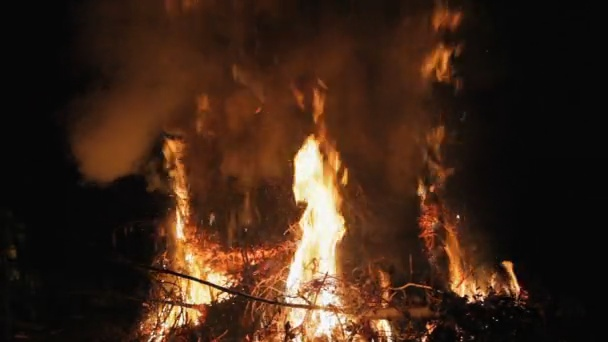fire: (140, 140, 233, 342), (287, 136, 346, 342), (419, 42, 460, 249), (446, 259, 519, 298), (370, 319, 391, 342)
